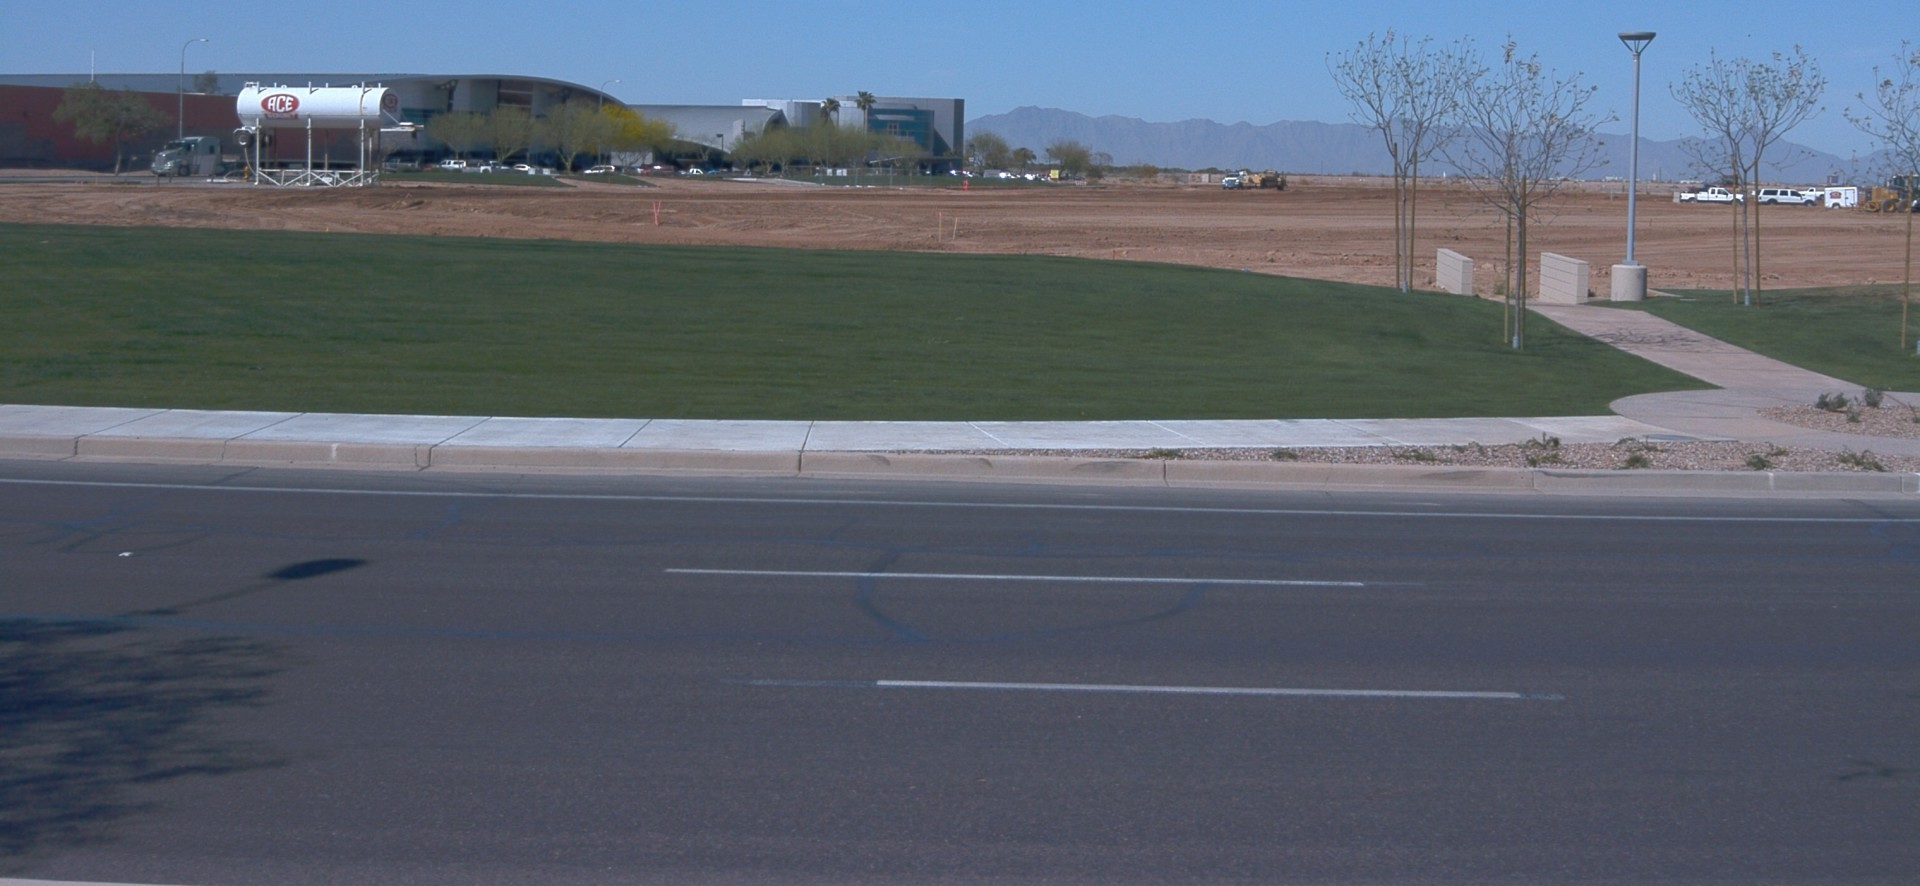TYPE_VEHICLE: (149, 133, 361, 181), (149, 133, 361, 181), (149, 133, 361, 181), (149, 133, 361, 181), (1867, 169, 1920, 210), (1867, 169, 1920, 210), (1867, 169, 1920, 210), (1867, 169, 1920, 210), (1679, 186, 1744, 207), (1679, 186, 1744, 207), (1679, 186, 1744, 207), (1679, 186, 1744, 207), (1755, 187, 1818, 207), (1755, 187, 1818, 207), (1755, 187, 1818, 207), (1755, 187, 1818, 207), (1714, 174, 1756, 202), (1714, 174, 1756, 202), (1714, 174, 1756, 202), (1714, 174, 1756, 202), (1236, 170, 1286, 191), (1236, 170, 1286, 191), (1236, 170, 1286, 191), (1236, 170, 1286, 191), (1823, 185, 1862, 209), (1823, 185, 1862, 209), (1823, 185, 1862, 209), (1823, 185, 1862, 209), (1221, 173, 1244, 192), (1221, 173, 1244, 192), (1221, 173, 1244, 192), (1221, 173, 1244, 192), (435, 160, 469, 171), (435, 160, 469, 171), (435, 160, 469, 171), (435, 160, 469, 171), (584, 165, 617, 175), (584, 165, 617, 175), (584, 165, 617, 175), (584, 165, 617, 175), (460, 163, 481, 176), (460, 163, 481, 176), (460, 163, 481, 176), (460, 163, 481, 176), (1798, 188, 1826, 198), (1798, 188, 1826, 198), (1798, 188, 1826, 198), (1798, 188, 1826, 198), (1682, 187, 1714, 192), (1682, 187, 1714, 192), (1682, 187, 1714, 192), (1682, 187, 1714, 192), (688, 171, 703, 177), (688, 171, 703, 177), (688, 171, 703, 177), (688, 171, 703, 177), (511, 166, 530, 170), (511, 166, 530, 170), (511, 166, 530, 170), (511, 166, 530, 170), (1913, 198, 1918, 207), (1913, 198, 1918, 207), (1913, 198, 1918, 207), (1913, 198, 1918, 207), (489, 160, 498, 164), (489, 160, 498, 164), (489, 160, 498, 164), (489, 160, 498, 164), (1751, 192, 1756, 198), (1751, 192, 1756, 198), (1751, 192, 1756, 198), (1751, 192, 1756, 198)
